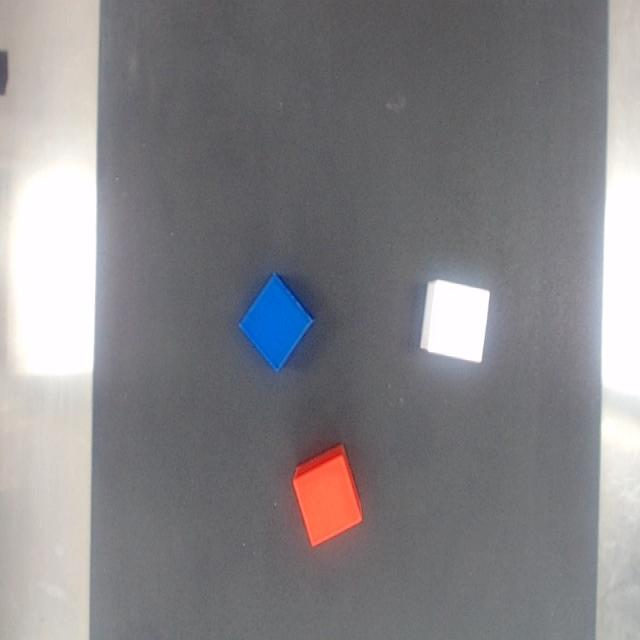Azul: (239, 273, 313, 371)
Blanco: (420, 280, 489, 361)
Rojo: (292, 444, 362, 547)
